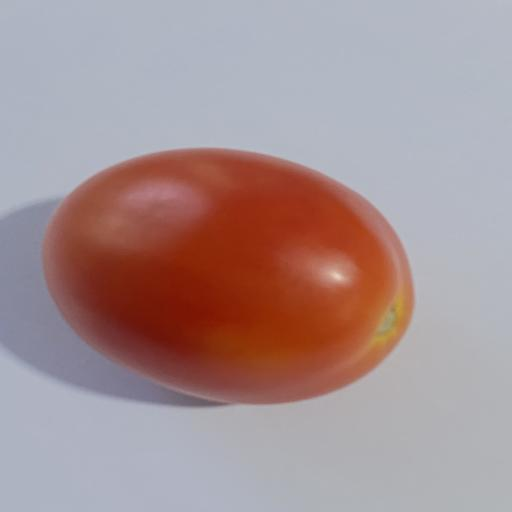ripe: (43, 148, 413, 404)
